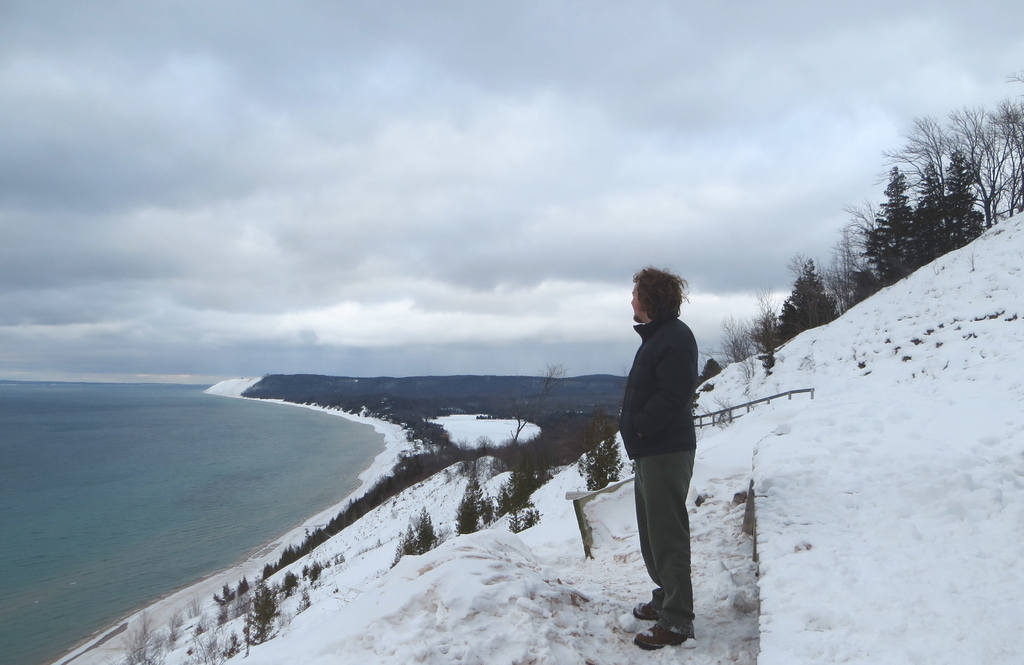Footwear: (623, 582, 697, 643), (631, 600, 674, 622)
